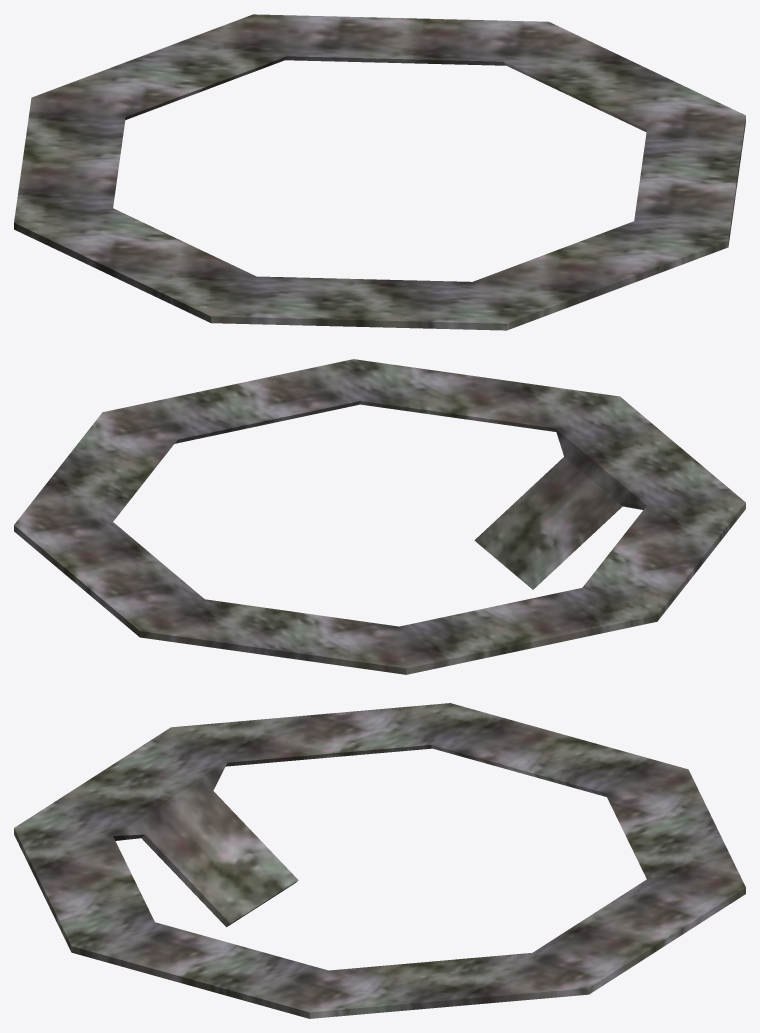
The model's file is TheOctagon_Floor_1.gltf.
3 renders of one model, top to bottom at view 1: azimuth 30°, elevation 25°; view 2: azimuth 150°, elevation 25°; view 3: azimuth 270°, elevation 25°, orthographic. The views are drawn at different scales.
Visible parts, largest first — view 1: TheOctagon_Floor_1; view 2: TheOctagon_Floor_1; view 3: TheOctagon_Floor_1.
Part boxes in pixels (x1,y1,x2,y2): TheOctagon_Floor_1: (14, 14, 745, 330); TheOctagon_Floor_1: (14, 359, 745, 674); TheOctagon_Floor_1: (14, 703, 745, 1018).
Bounding box in the file's own units: 81.54 × 9.88 × 81.54.
Materials: 1 (1 with a texture image).
